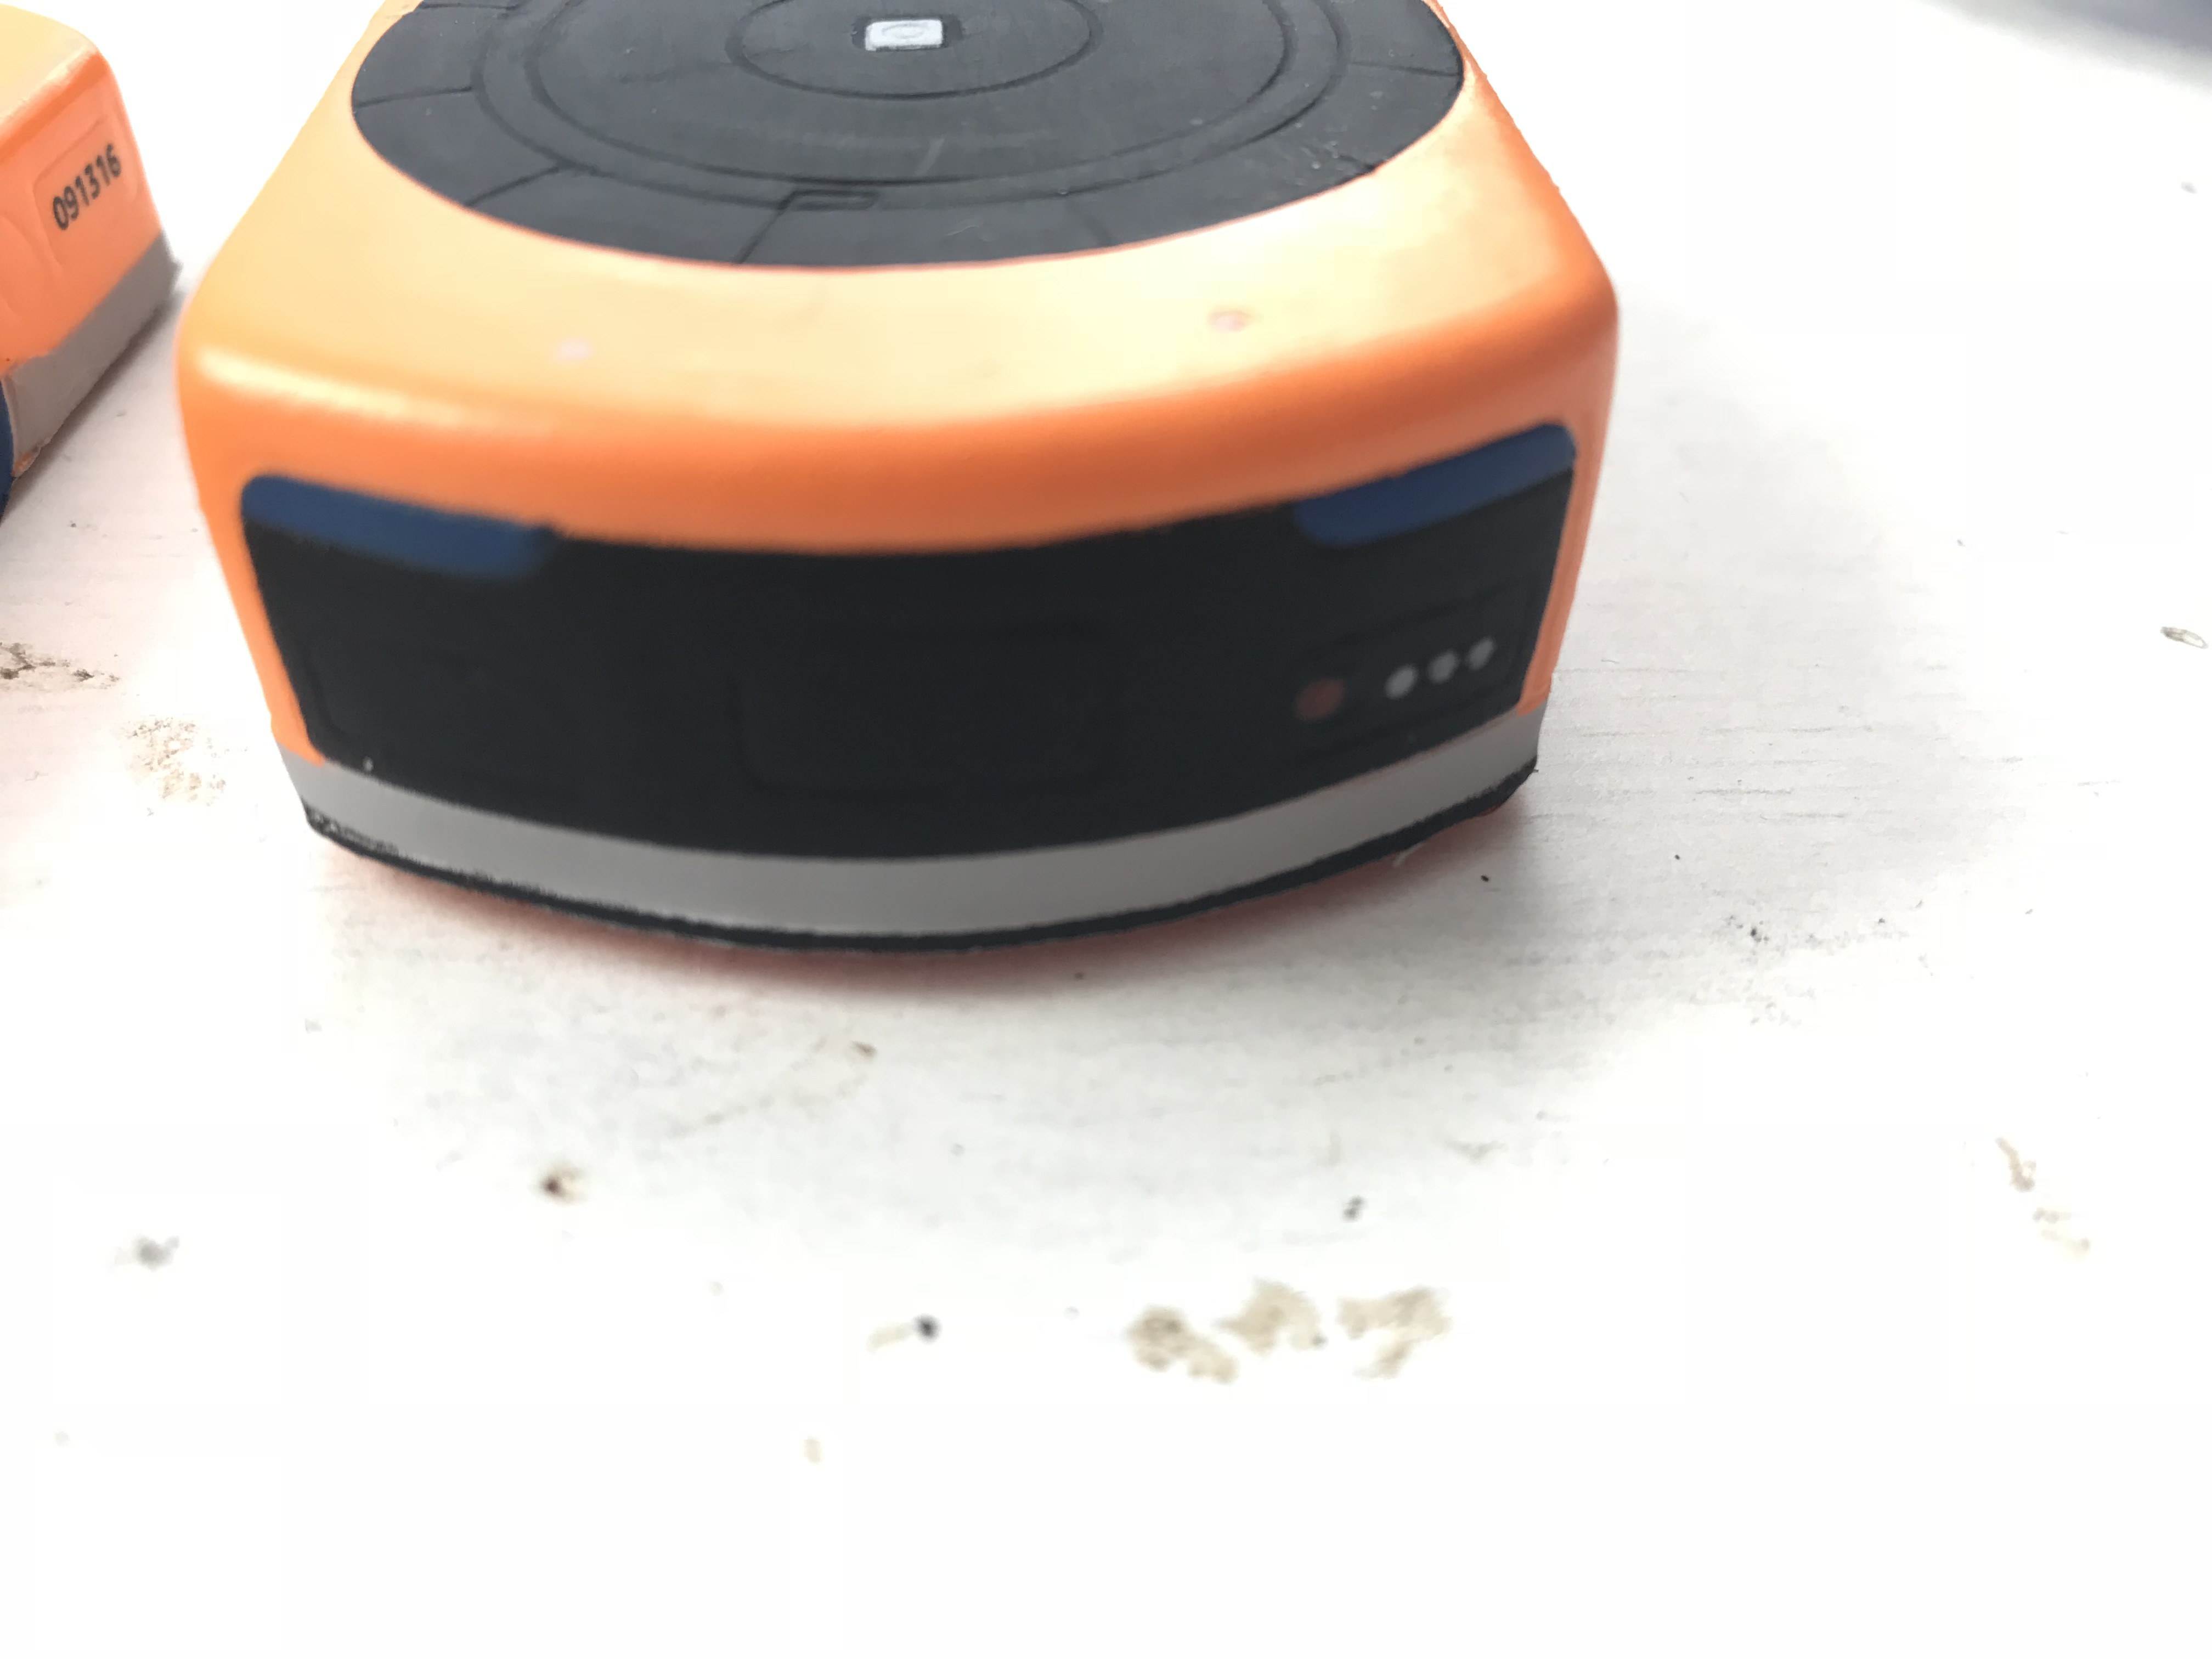amazon_bot: (164, 0, 1646, 995)
